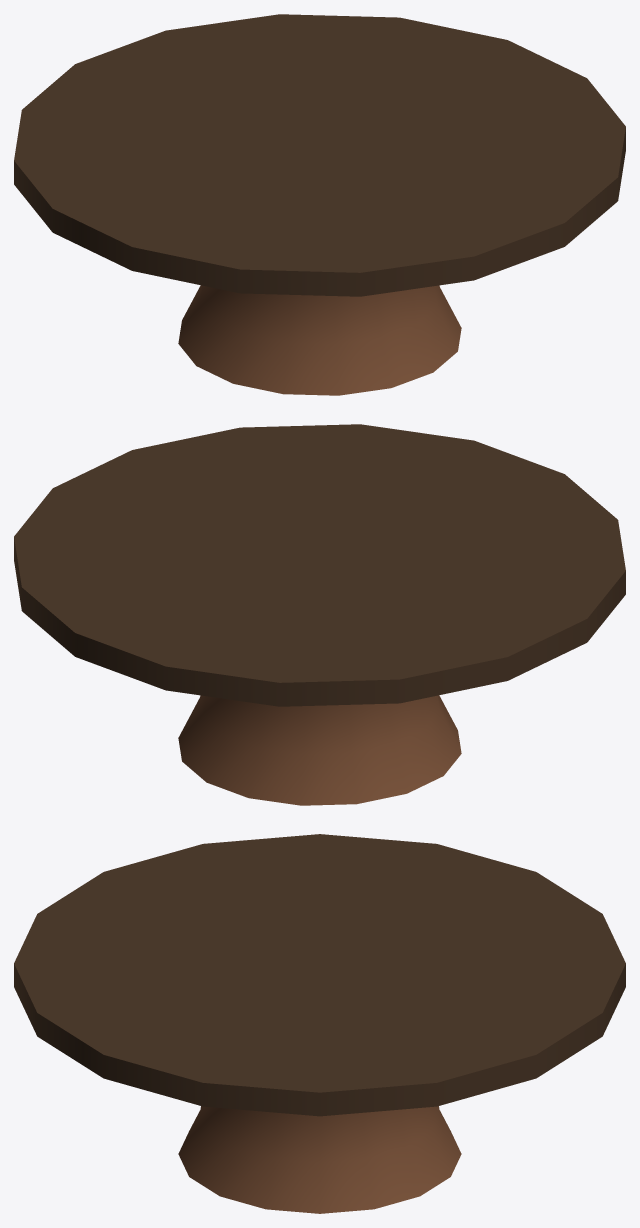
The model's file is RoundTable.fbx.
The picture shows the model from 3 angles, top to bottom: view 1: azimuth 30°, elevation 25°; view 2: azimuth 150°, elevation 25°; view 3: azimuth 270°, elevation 25°; orthographic projection.
Parts seen in each view (by area): view 1: Round table; view 2: Round table; view 3: Round table.
Part boxes in pixels (box(x1,y1,x2,y2)): Round table: box(14, 14, 625, 395); Round table: box(14, 424, 625, 805); Round table: box(14, 834, 625, 1213).
Bounding box in the file's own units: 249 × 85.47 × 249.
